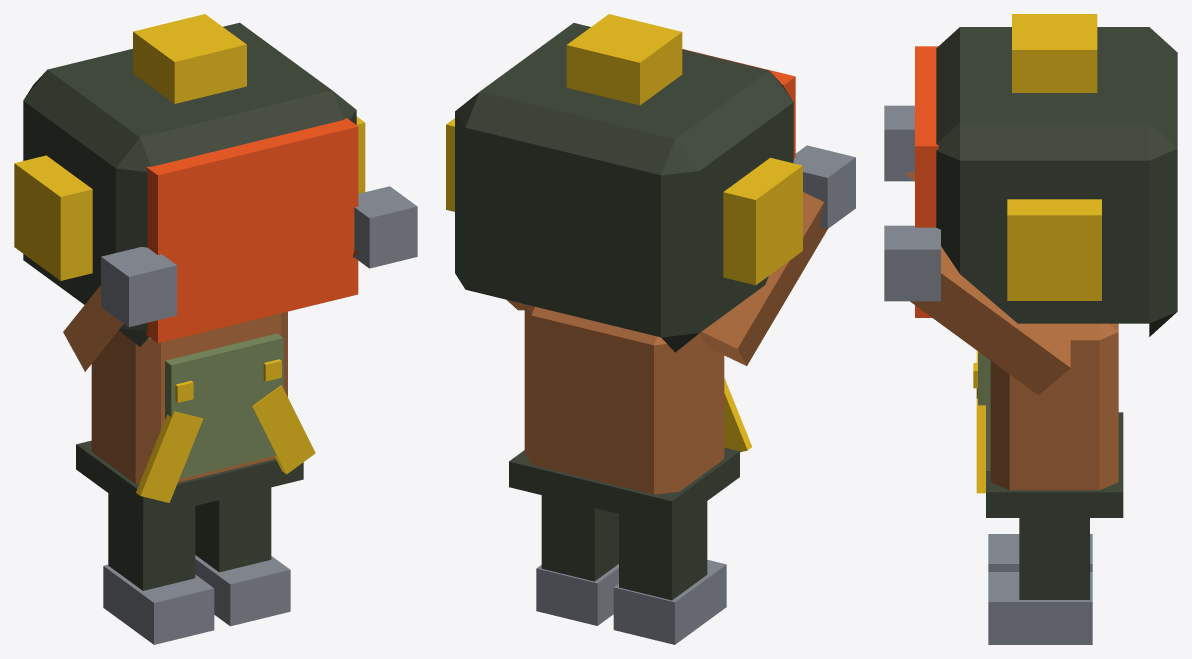
File: blinder_r7.glb
The picture shows the model from 3 angles, left to right: view 1: azimuth 30°, elevation 25°; view 2: azimuth 150°, elevation 25°; view 3: azimuth 270°, elevation 25°; orthographic projection. The views are drawn at different scales.
Visible parts, largest first — view 1: blinder_r7_mesh; view 2: blinder_r7_mesh; view 3: blinder_r7_mesh.
Part boxes in pixels (box(x1,y1,x2,y2)): blinder_r7_mesh: box(14, 14, 417, 644); blinder_r7_mesh: box(446, 14, 855, 644); blinder_r7_mesh: box(884, 14, 1177, 644).
Size of the model in its own units: 0.9007 by 1.6 by 0.7348.
Materials: 1 (1 with a texture image).
